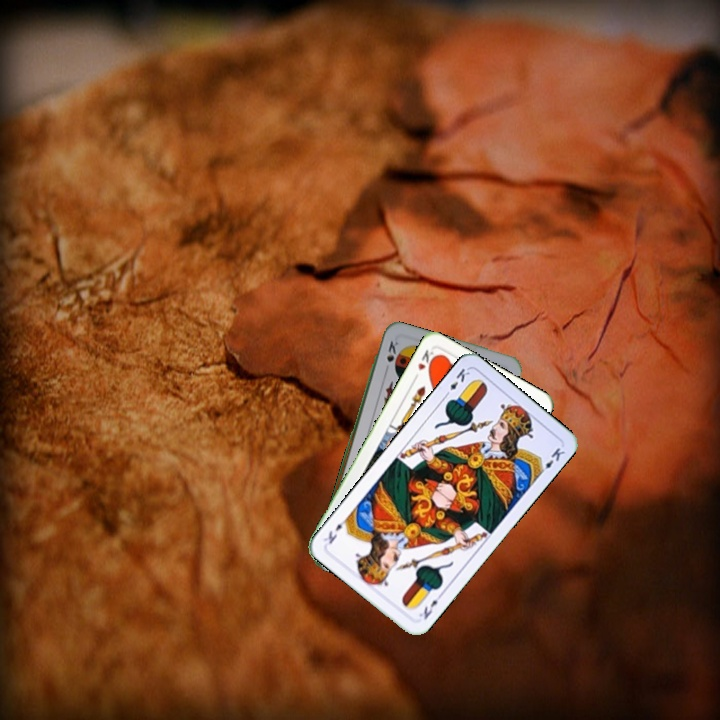EK: (440, 364, 473, 400), (415, 589, 445, 622)
HK: (414, 345, 440, 374)
SK: (383, 337, 401, 365)
